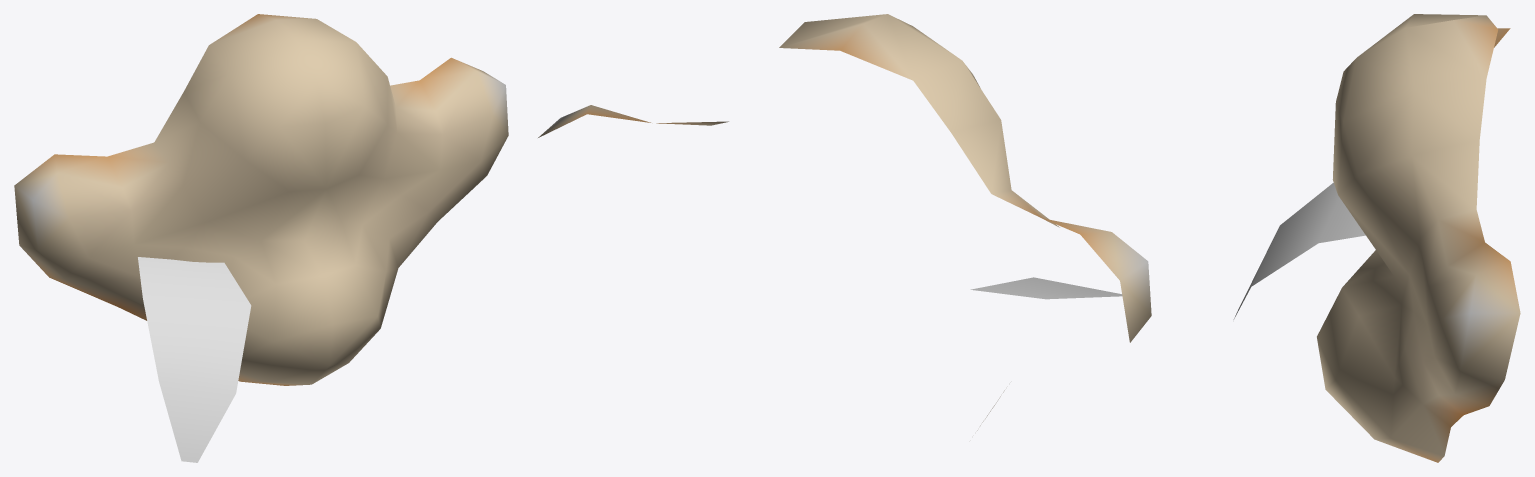
File: S12_Beast04_L2_Mouth.glb
The picture shows the model from 3 angles, left to right: view 1: azimuth 30°, elevation 25°; view 2: azimuth 150°, elevation 25°; view 3: azimuth 270°, elevation 25°; orthographic projection. The views are drawn at different scales.
Parts seen in each view (by area): view 1: S12_Beast04_L2_Mouth__Mouth_M__surface0__lod0; view 2: S12_Beast04_L2_Mouth__Mouth_M__surface0__lod0; view 3: S12_Beast04_L2_Mouth__Mouth_M__surface0__lod0.
Part boxes in pixels (left/top/right/bottom): S12_Beast04_L2_Mouth__Mouth_M__surface0__lod0: left=14, top=14, right=508, bottom=462; S12_Beast04_L2_Mouth__Mouth_M__surface0__lod0: left=538, top=14, right=1151, bottom=430; S12_Beast04_L2_Mouth__Mouth_M__surface0__lod0: left=1233, top=14, right=1520, bottom=462.
Bounding box in the file's own units: 42.49 × 30.88 × 18.62.
